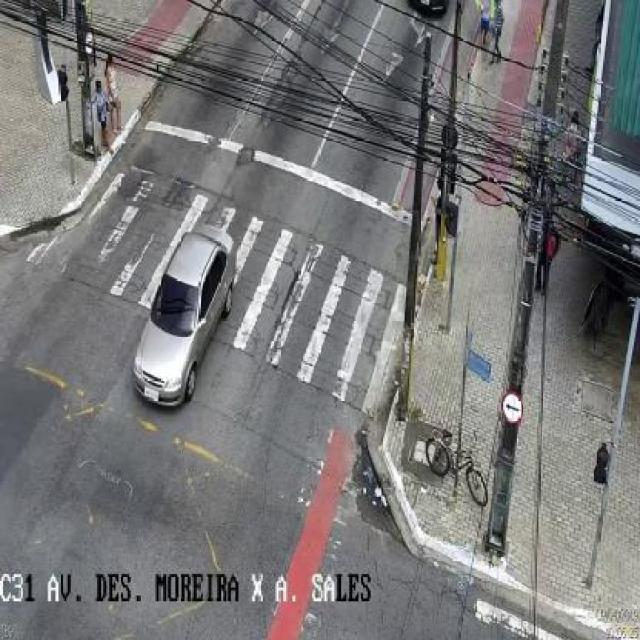Car: (132, 223, 237, 407)
Cycle: (426, 428, 490, 507)
